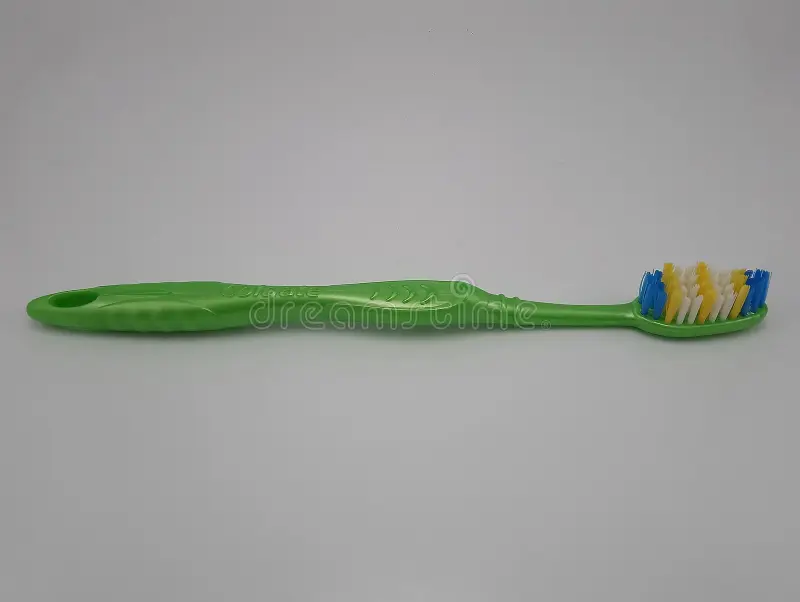non-toxic_waste: (34, 265, 767, 335)
